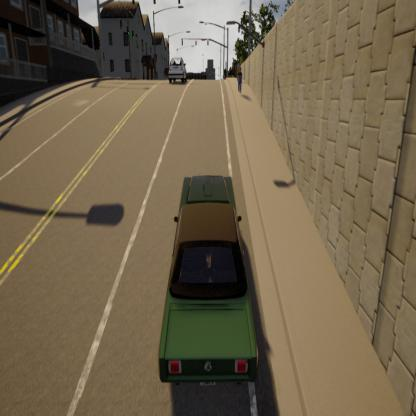Cars: (144, 171, 265, 405), (164, 52, 188, 86)
Pedestrian: (235, 63, 245, 101)
